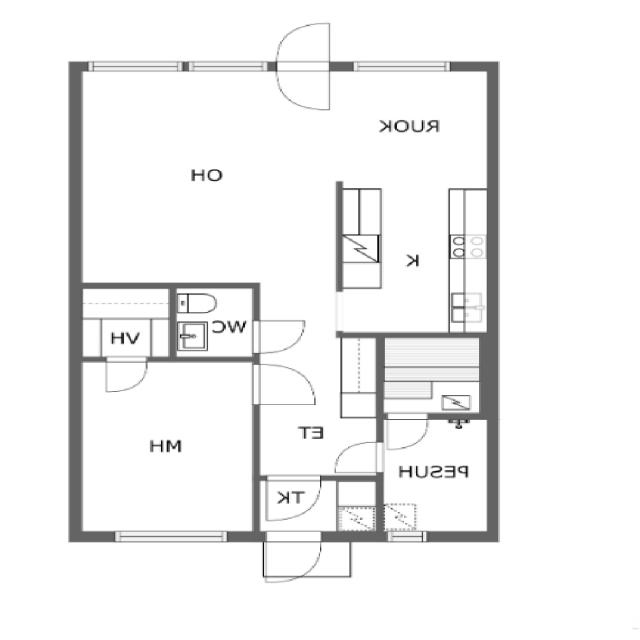door: (272, 19, 335, 114), (258, 528, 337, 586), (248, 359, 322, 412), (255, 476, 330, 526), (244, 311, 314, 357), (327, 438, 388, 477), (378, 411, 434, 453), (99, 354, 153, 396)
window: (106, 525, 236, 549), (348, 56, 459, 74), (84, 57, 192, 73), (179, 56, 273, 74), (379, 528, 437, 545)
zone: (71, 70, 333, 294), (76, 352, 260, 534), (332, 188, 492, 336), (334, 68, 489, 188), (380, 416, 490, 537), (377, 334, 482, 417), (77, 286, 174, 361), (172, 285, 256, 361)
